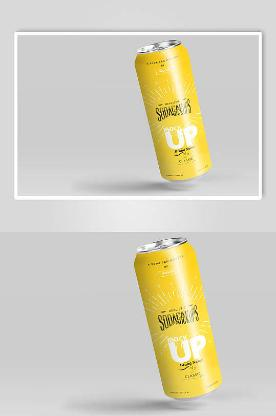Can: (134, 237, 222, 400), (135, 40, 212, 181)
